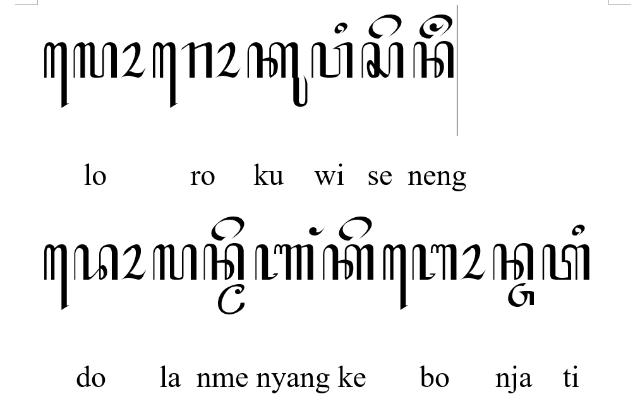_j: (506, 282, 534, 308)
_m: (217, 284, 245, 314)
b: (412, 244, 458, 280)
d: (73, 244, 119, 280)
e: (367, 14, 403, 40), (338, 215, 372, 241), (210, 216, 244, 240)
e1: (43, 42, 69, 108), (152, 42, 178, 108), (382, 244, 408, 310), (44, 244, 68, 310)
eng: (419, 13, 453, 39)
i: (334, 22, 348, 34), (572, 223, 584, 236)
k: (322, 244, 374, 280)
ku: (248, 42, 308, 106)
l: (152, 243, 198, 281), (72, 41, 118, 78)
n: (203, 243, 245, 281), (492, 243, 534, 281), (412, 41, 454, 78)
ng: (308, 227, 324, 237)
ny1: (254, 243, 316, 281)
o: (460, 243, 486, 281), (120, 42, 146, 78), (216, 41, 240, 78), (122, 244, 146, 278)
r: (181, 43, 213, 80)
s: (361, 41, 404, 78)
t: (542, 244, 590, 282)
w: (311, 41, 353, 78)
